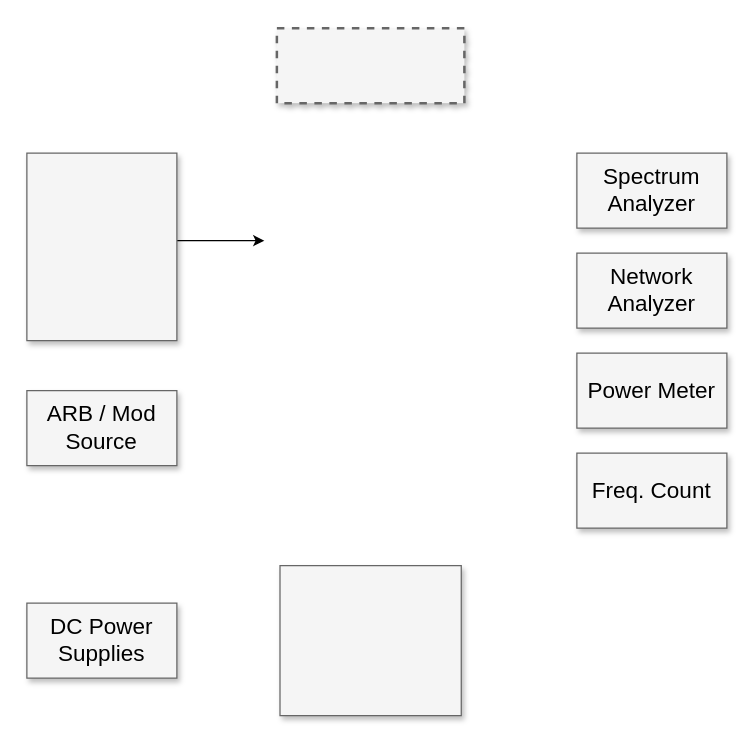
The diagram is 756 pixels wide and 746 high, and some of its shapes have lost their labels. Here are the shapes that lost their labels. From the top down, the centre of each, then its label:
pixel 371 66: Software Control
pixel 102 248: Vector Signal Generator
pixel 371 641: DUT
